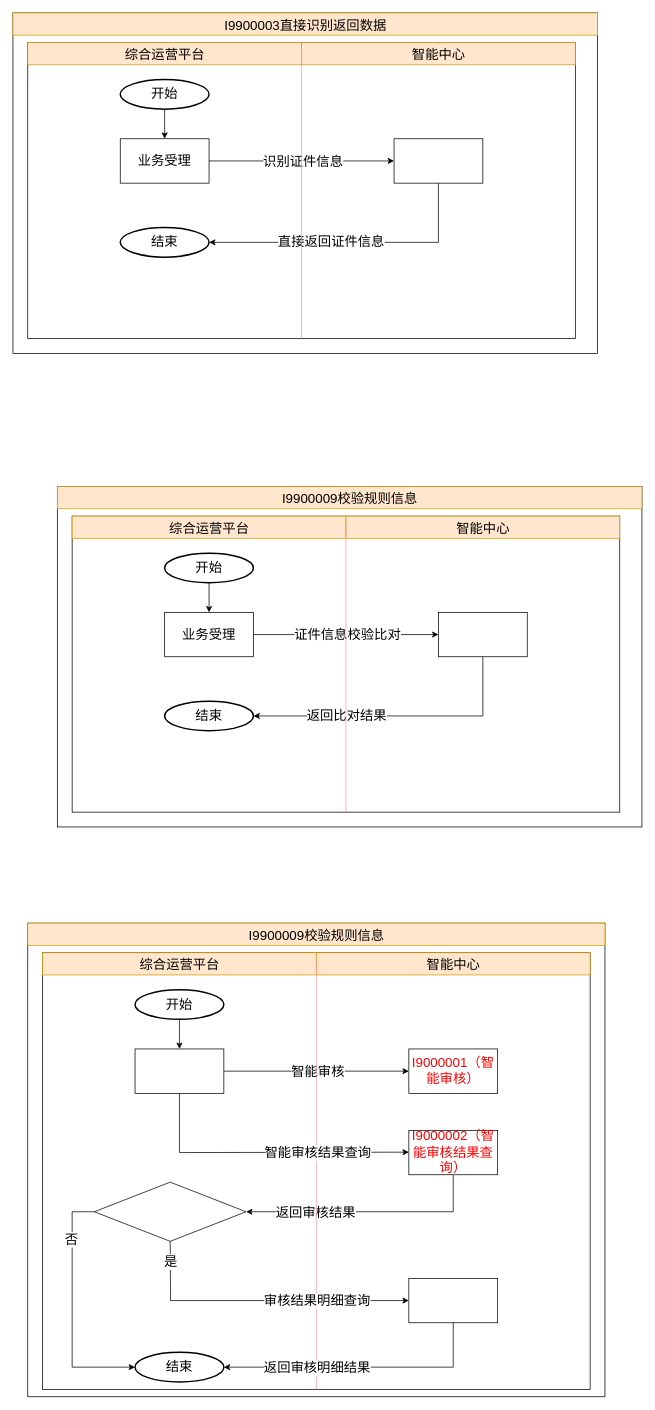
The diagram is 655 pixels wide and 1410 high, and some of its shapes have lost their labels. Each missing label, with the box of its shape:
I9000007（智能审核结果明细查询 ）: (408, 1278, 498, 1323)
I9000009（校验规则信息 ）: (438, 612, 527, 657)
I9900003（智能服务 ）: (393, 138, 483, 183)
业务提交: (134, 1048, 224, 1093)
是否查看结果详情: (94, 1181, 246, 1241)
